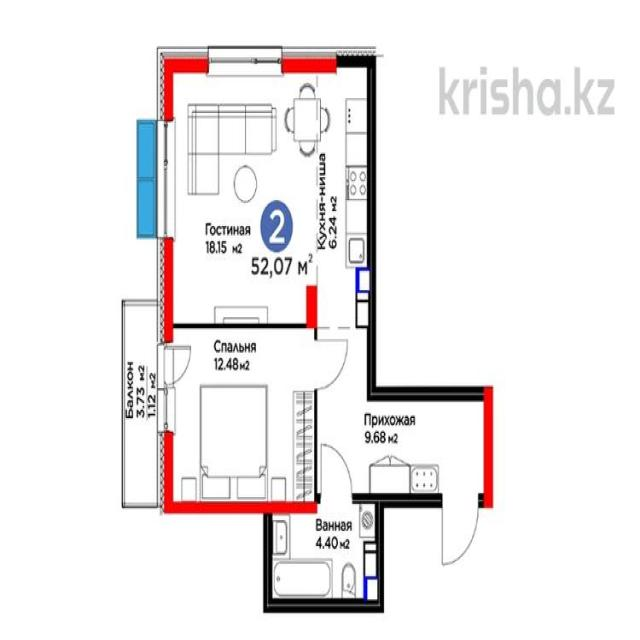balcony: (122, 301, 160, 506)
bathroom: (266, 506, 382, 609)
hallway: (316, 327, 490, 501)
living_room: (164, 326, 319, 512)
studio: (164, 58, 374, 330)
